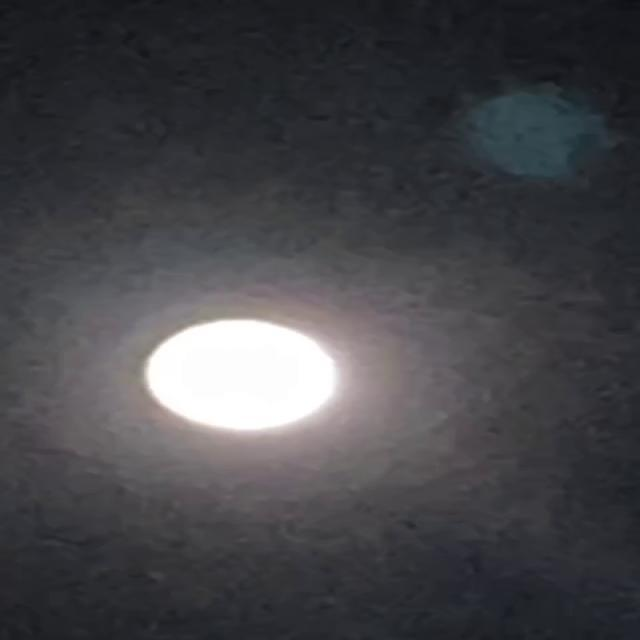moon: (139, 300, 362, 444)
